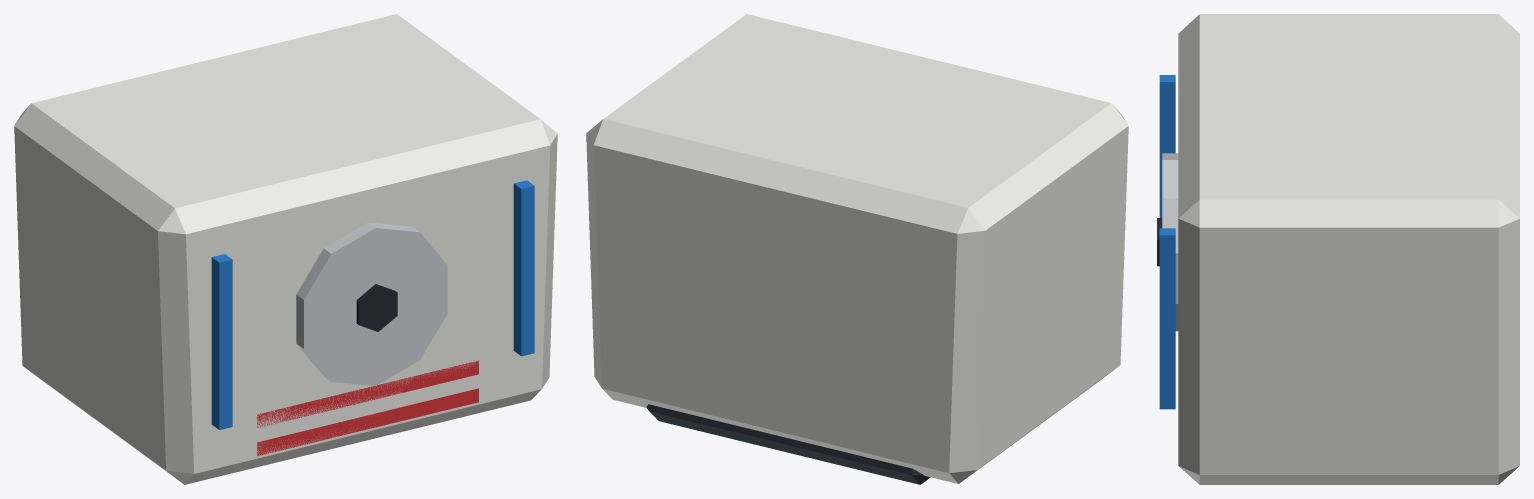
The model's file is torso_grunt.glb.
The picture shows the model from 3 angles, left to right: view 1: azimuth 30°, elevation 25°; view 2: azimuth 150°, elevation 25°; view 3: azimuth 270°, elevation 25°; orthographic projection. The views are drawn at different scales.
Visible parts, largest first — view 1: torso_grunt; view 2: torso_grunt; view 3: torso_grunt.
Boxes of the visible parts, x1,y1,x2,y2 form: torso_grunt: [14, 14, 557, 484]; torso_grunt: [586, 14, 1128, 484]; torso_grunt: [1157, 14, 1519, 484].
Size of the model in its own units: 0.9001 by 0.63 by 0.68.
